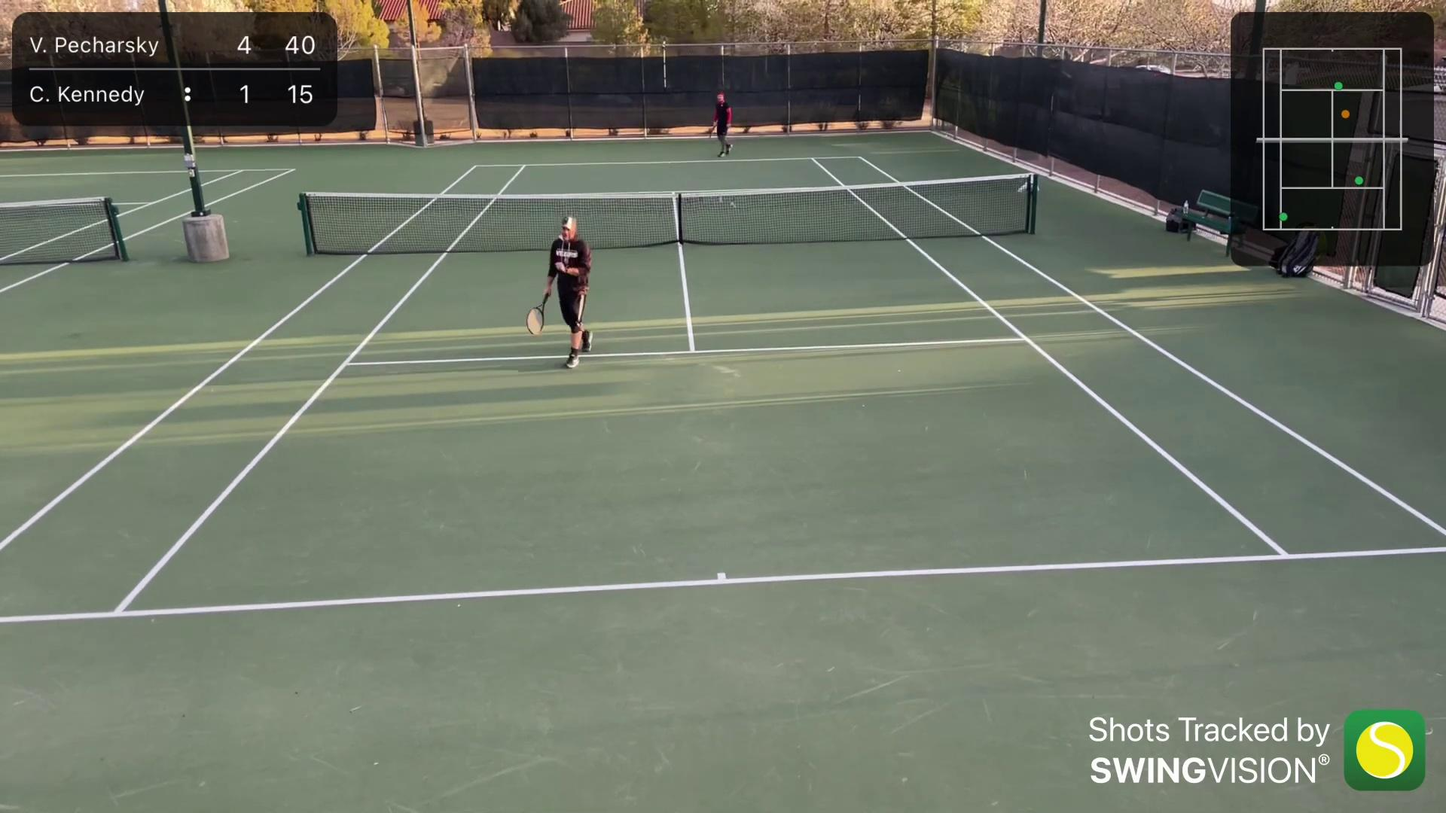ball: (987, 53, 991, 56)
